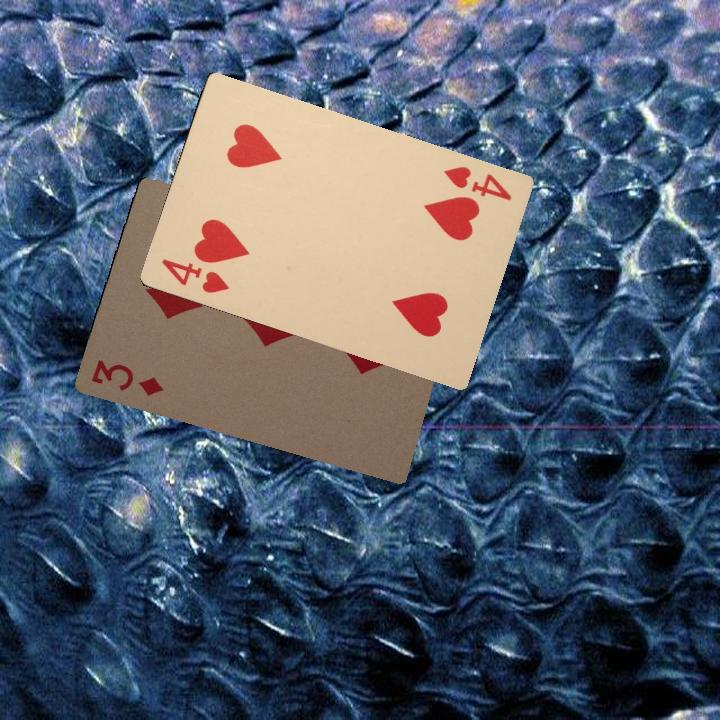3d: (86, 355, 166, 399)
4h: (157, 254, 232, 296), (440, 162, 514, 203)
